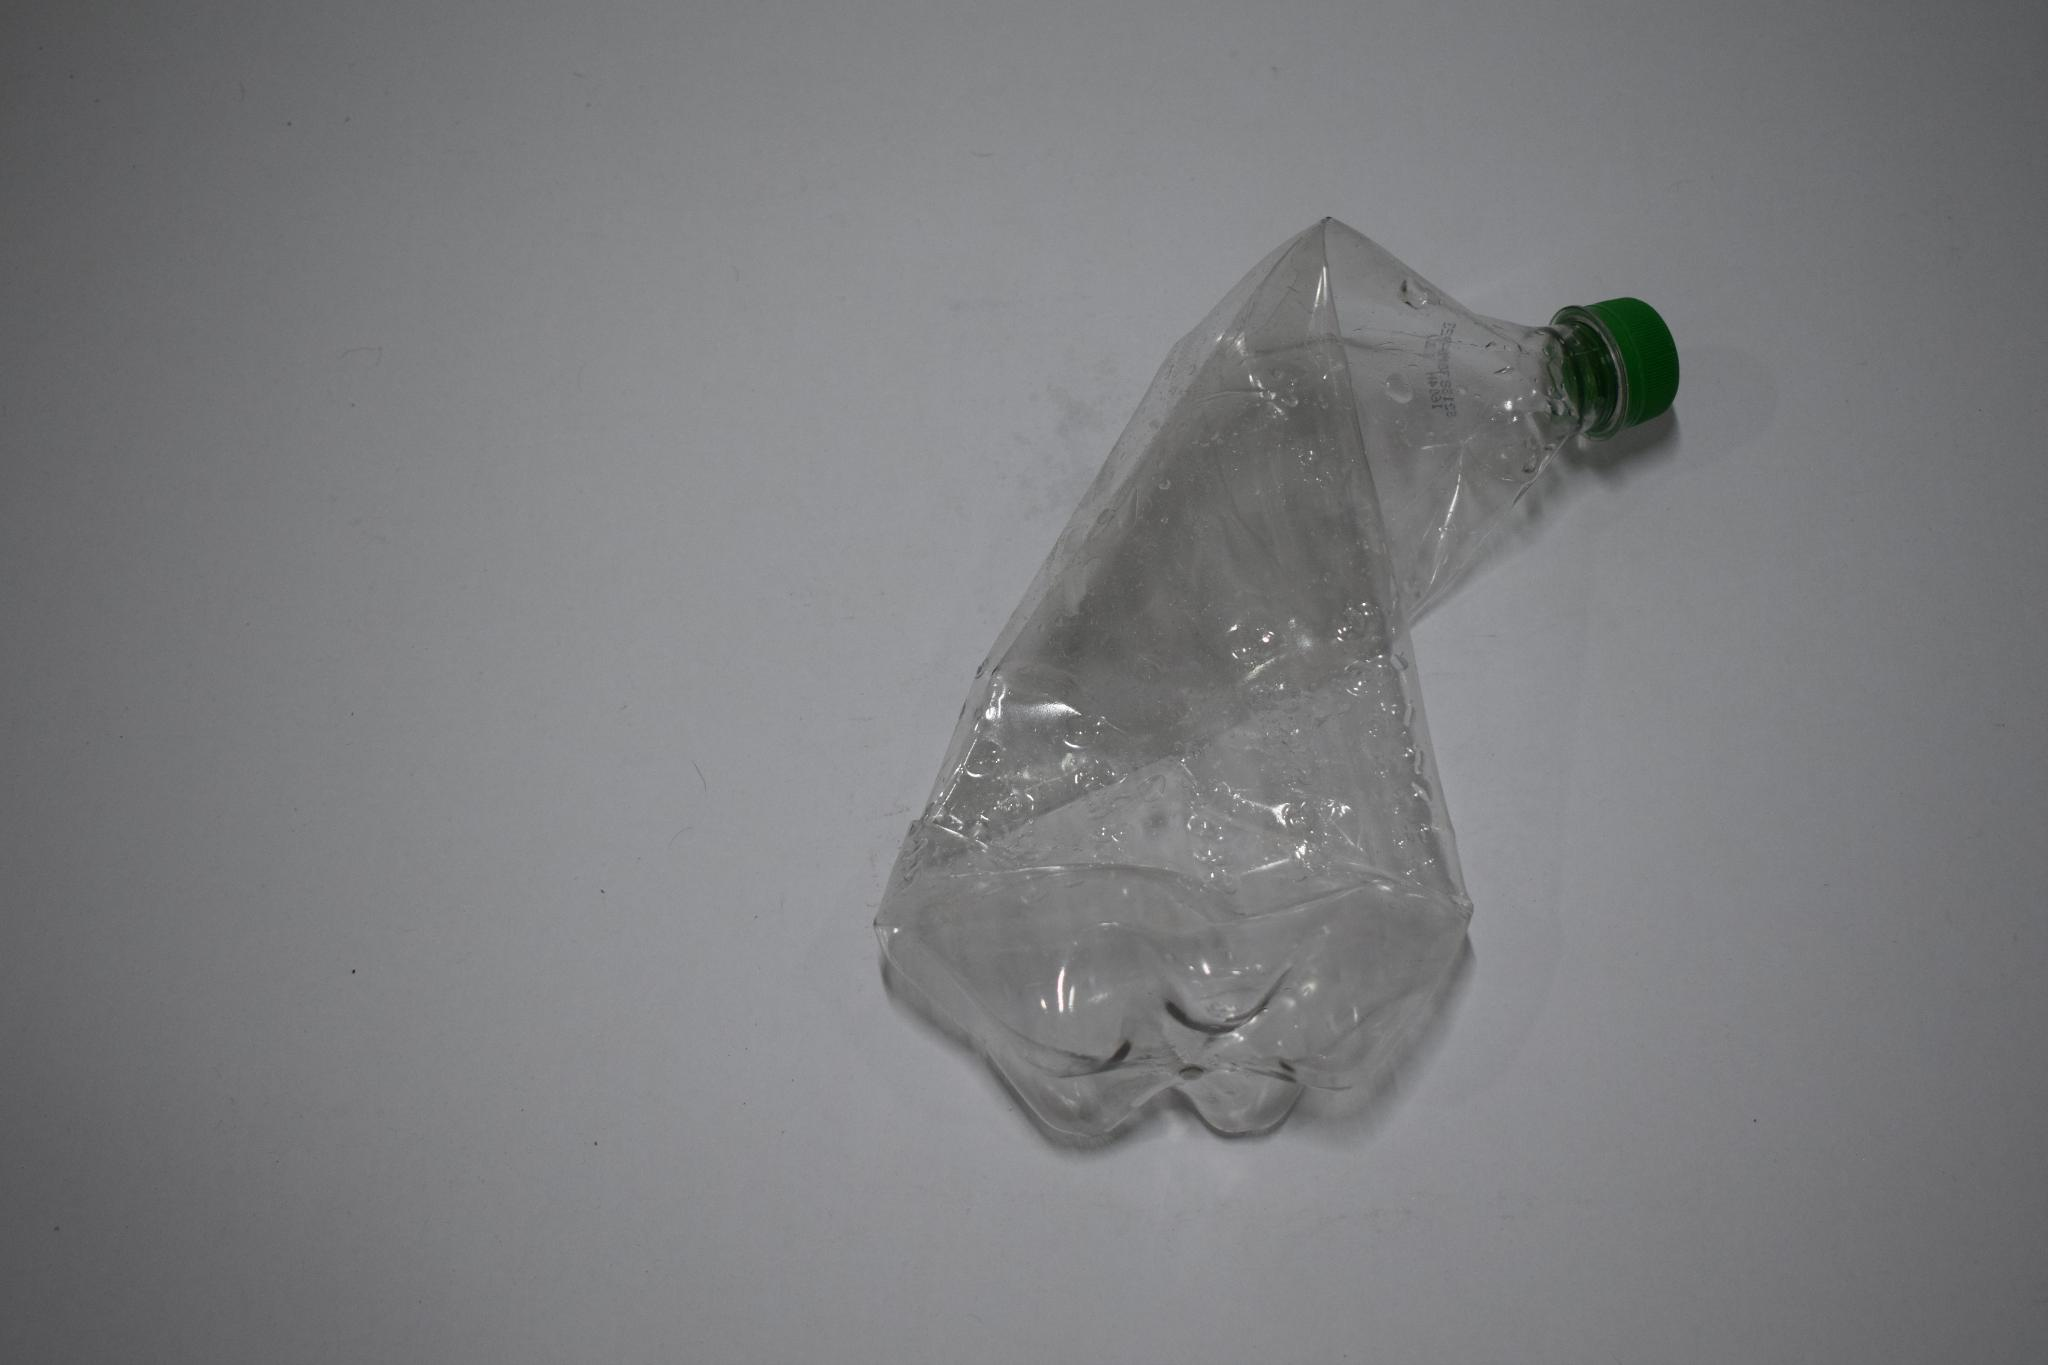bottle: (860, 198, 1683, 1140)
